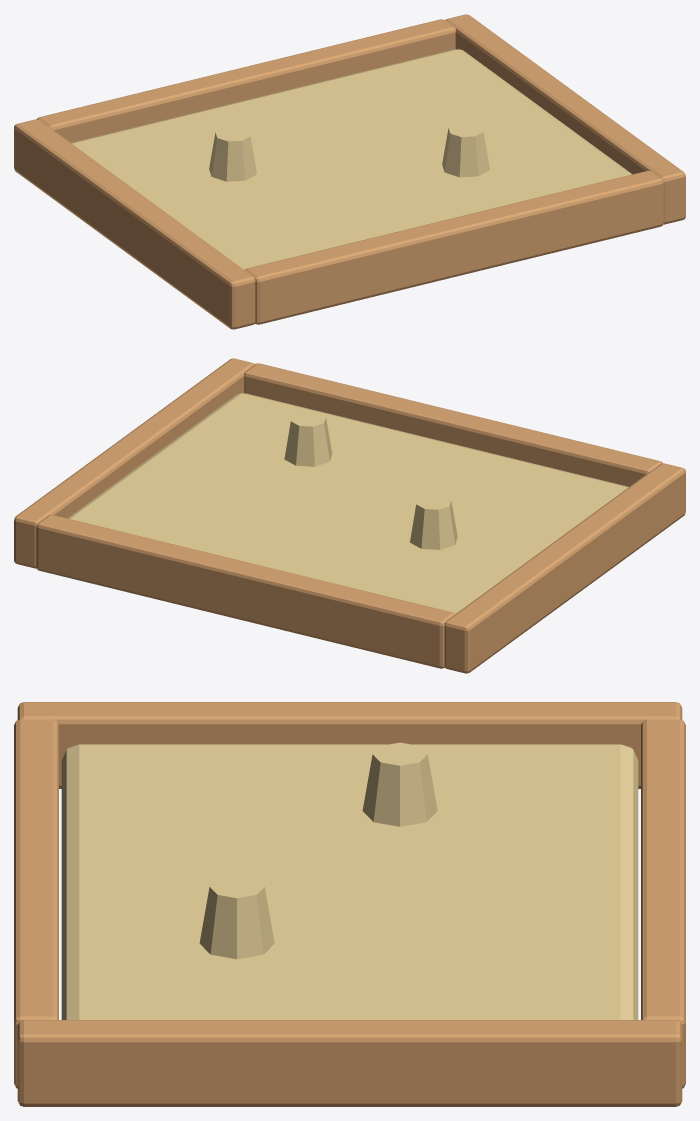
File: sandbox.glb
3 renders of one model, top to bottom at view 1: azimuth 30°, elevation 25°; view 2: azimuth 150°, elevation 25°; view 3: azimuth 270°, elevation 25°, orthographic. The views are drawn at different scales.
Parts seen in each view (by area): view 1: sandbox_Mesh; view 2: sandbox_Mesh; view 3: sandbox_Mesh.
Boxes of the visible parts, bbox=[...] form: sandbox_Mesh: bbox=[14, 14, 685, 329]; sandbox_Mesh: bbox=[14, 358, 685, 673]; sandbox_Mesh: bbox=[14, 702, 685, 1106].
Size of the model in its own units: 3.18 by 0.495 by 2.68.
